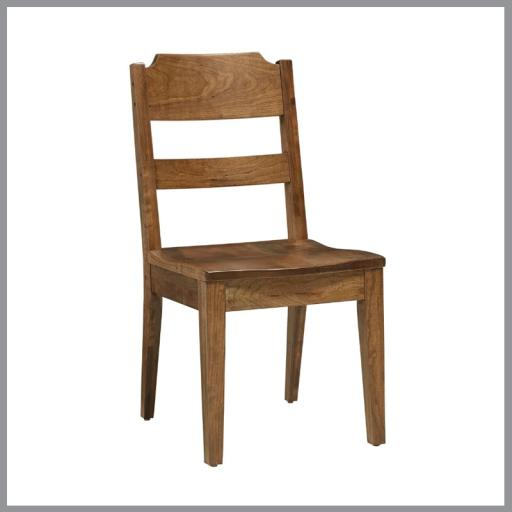chair: (104, 38, 408, 473)
